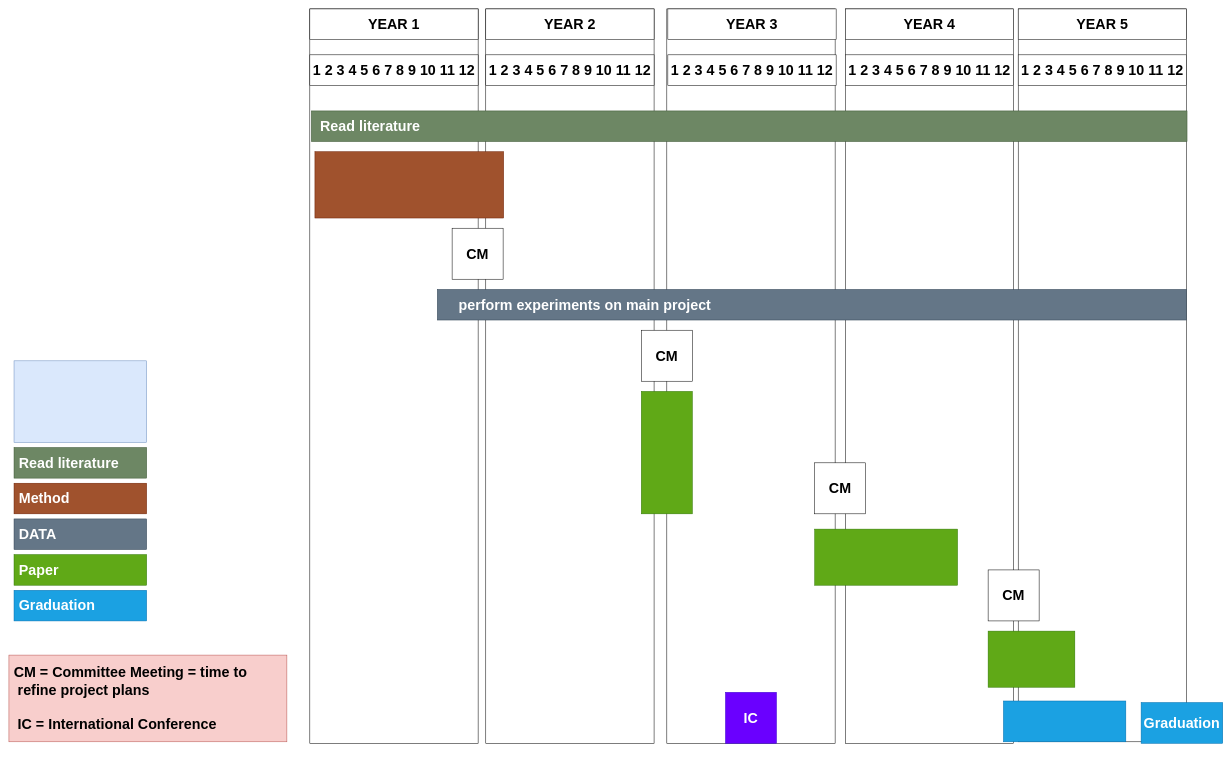
This 1232x759 diagram has some shape labels left out. The centre of each missing label's shape, as x and y in pixels:
"Develop method, protocol design, explore projects" belongs at [409,184].
"Paper revision" belongs at [1031,659].
"sketch paper draft" belongs at [666,452].
"Time Plan and Division of Tasks Heider Jeffer" belongs at [80,401].
"write main paper" belongs at [886,557].
"Write thesis" belongs at [1064,721].
